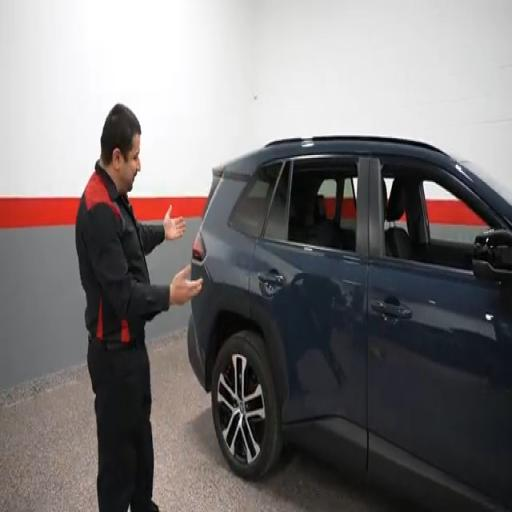bumper: (188, 315, 206, 389)
door: (368, 157, 511, 506), (249, 156, 367, 470)
side_mirror: (472, 229, 511, 283)
taillight: (192, 232, 205, 261)
wheel: (212, 332, 282, 479)
window: (264, 157, 357, 251), (229, 161, 283, 237)
windshield: (454, 158, 511, 204)
